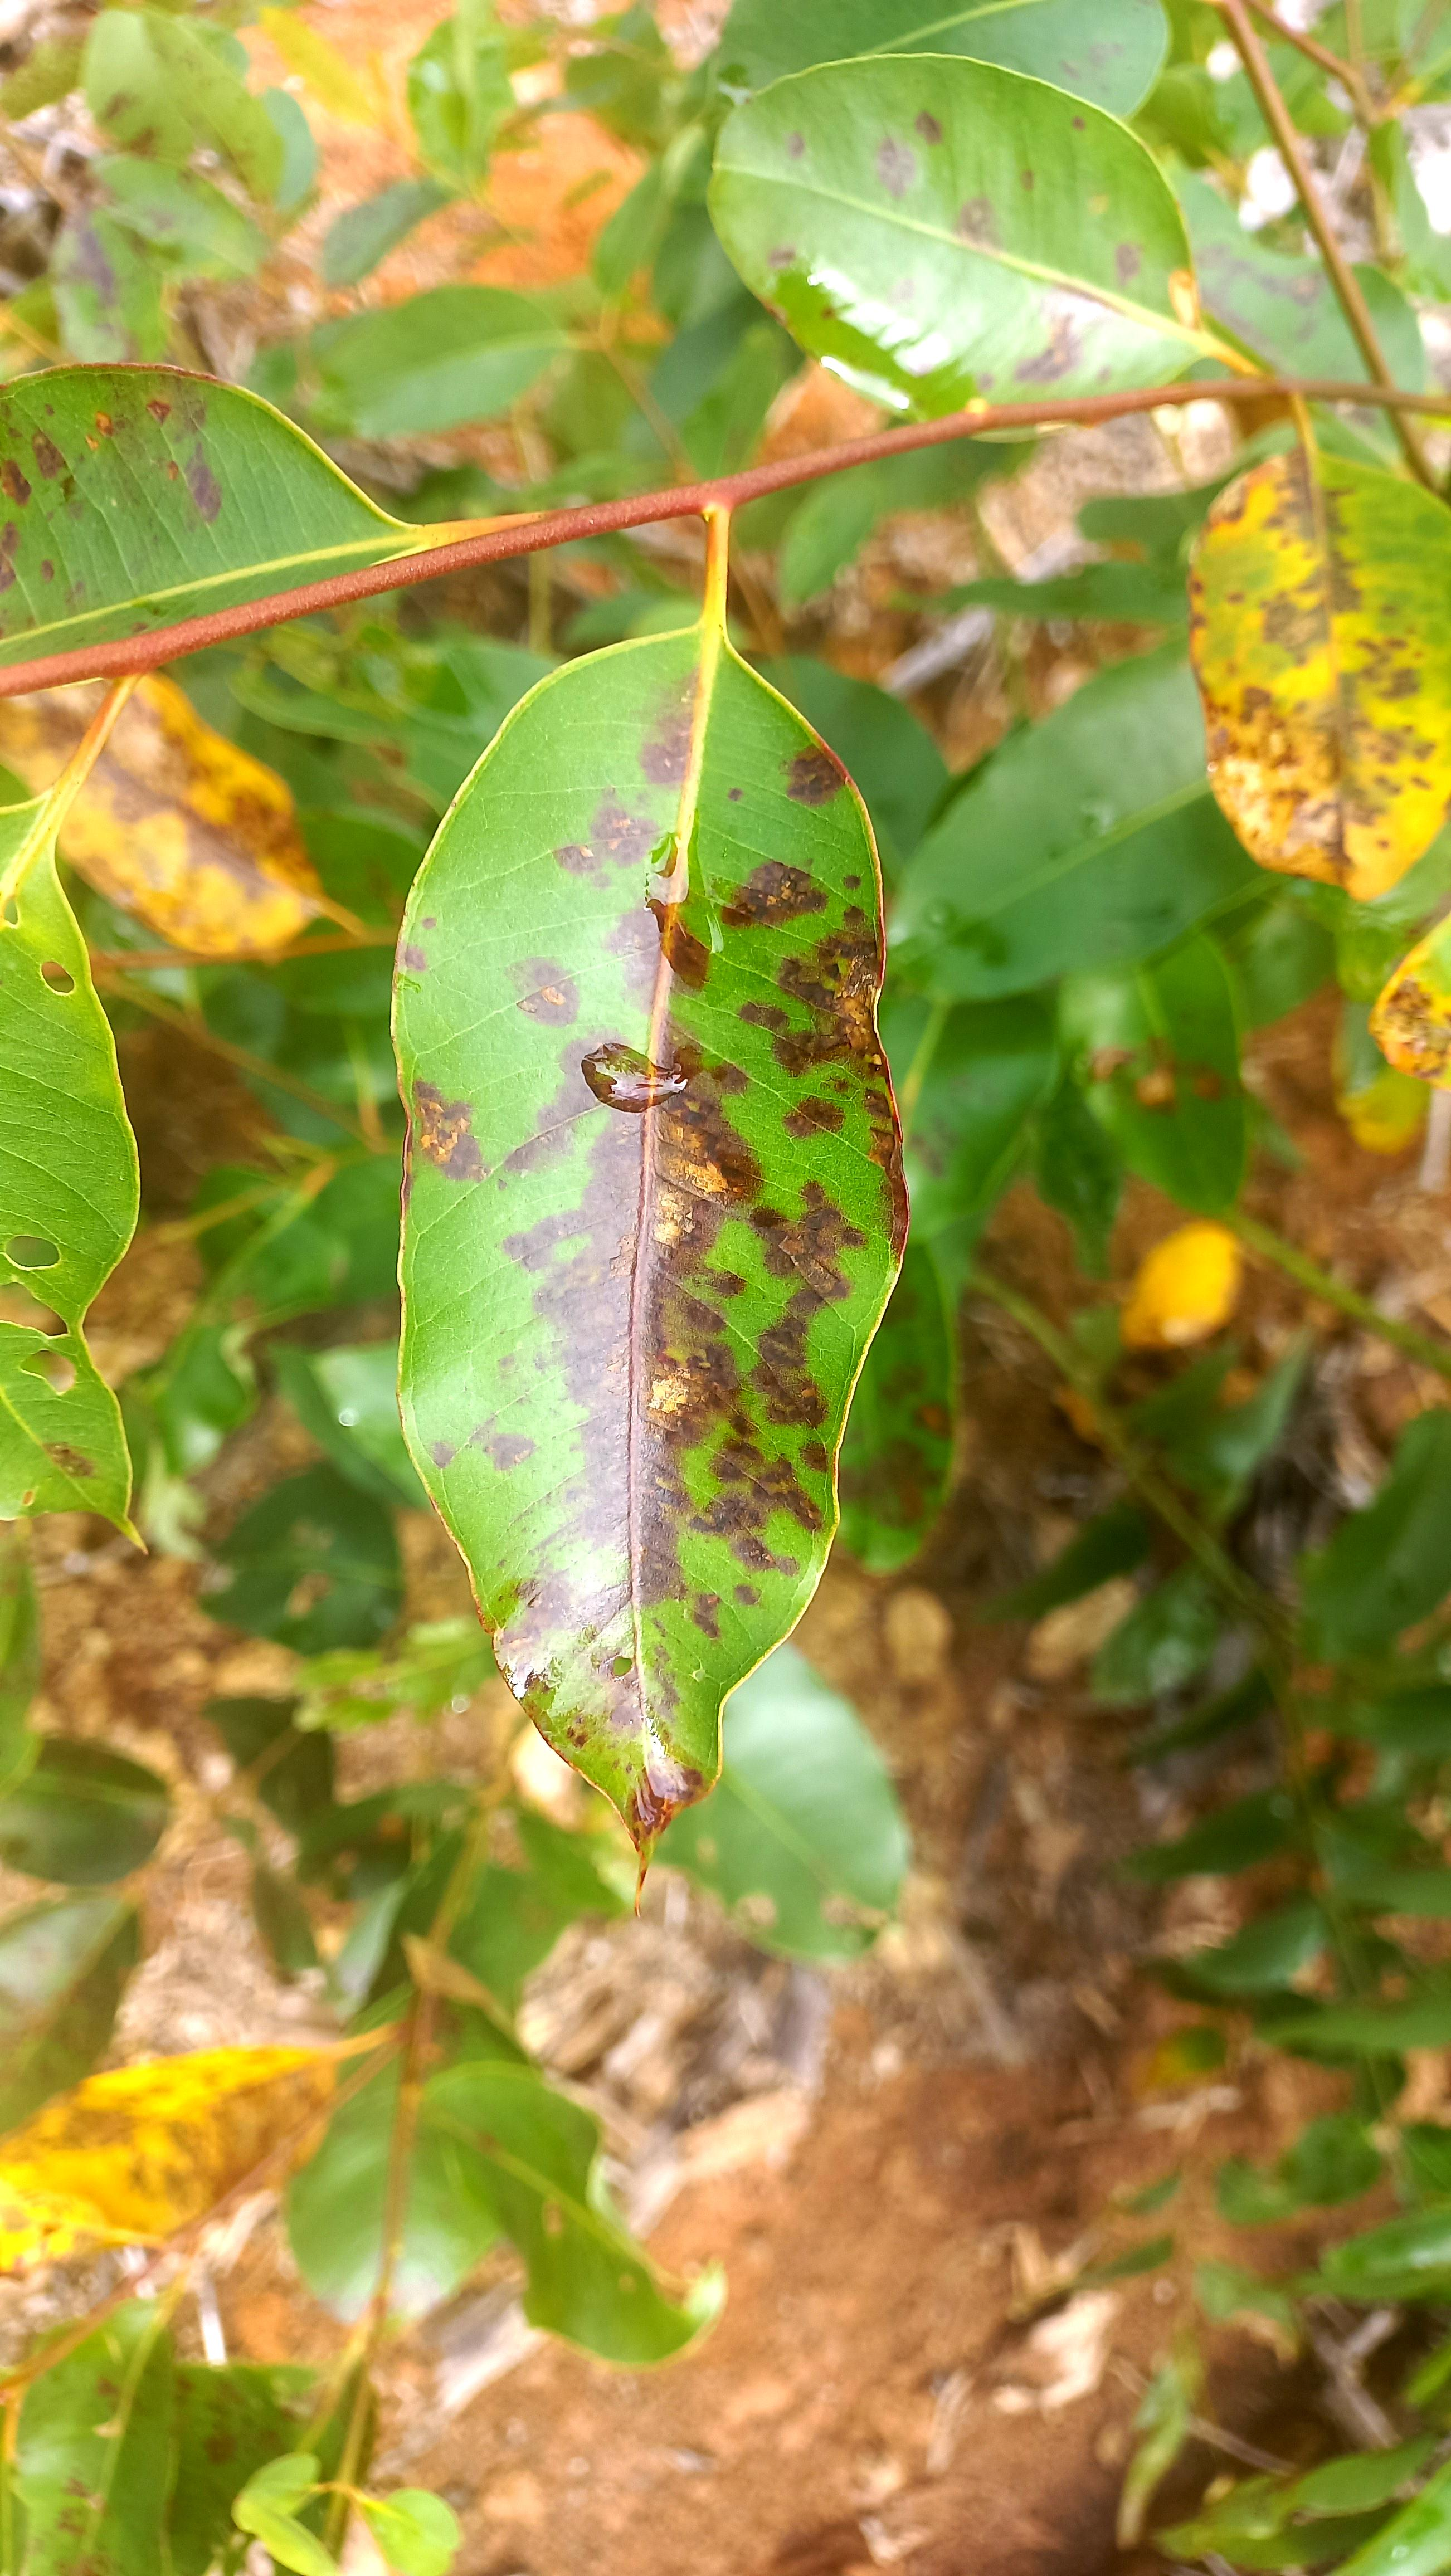Xanthomonas: (405, 771, 911, 1849), (4, 679, 342, 955), (1207, 448, 1423, 879), (0, 2051, 313, 2316), (0, 336, 246, 603), (1373, 955, 1447, 1081)
